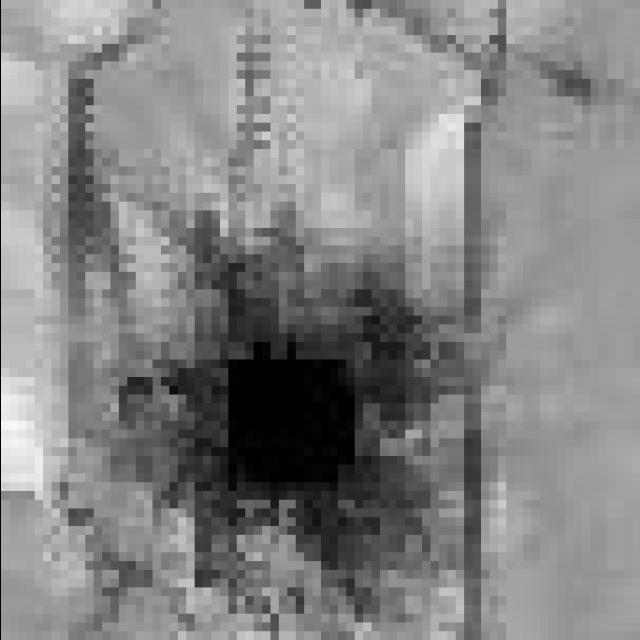good_void: (65, 202, 514, 640)
